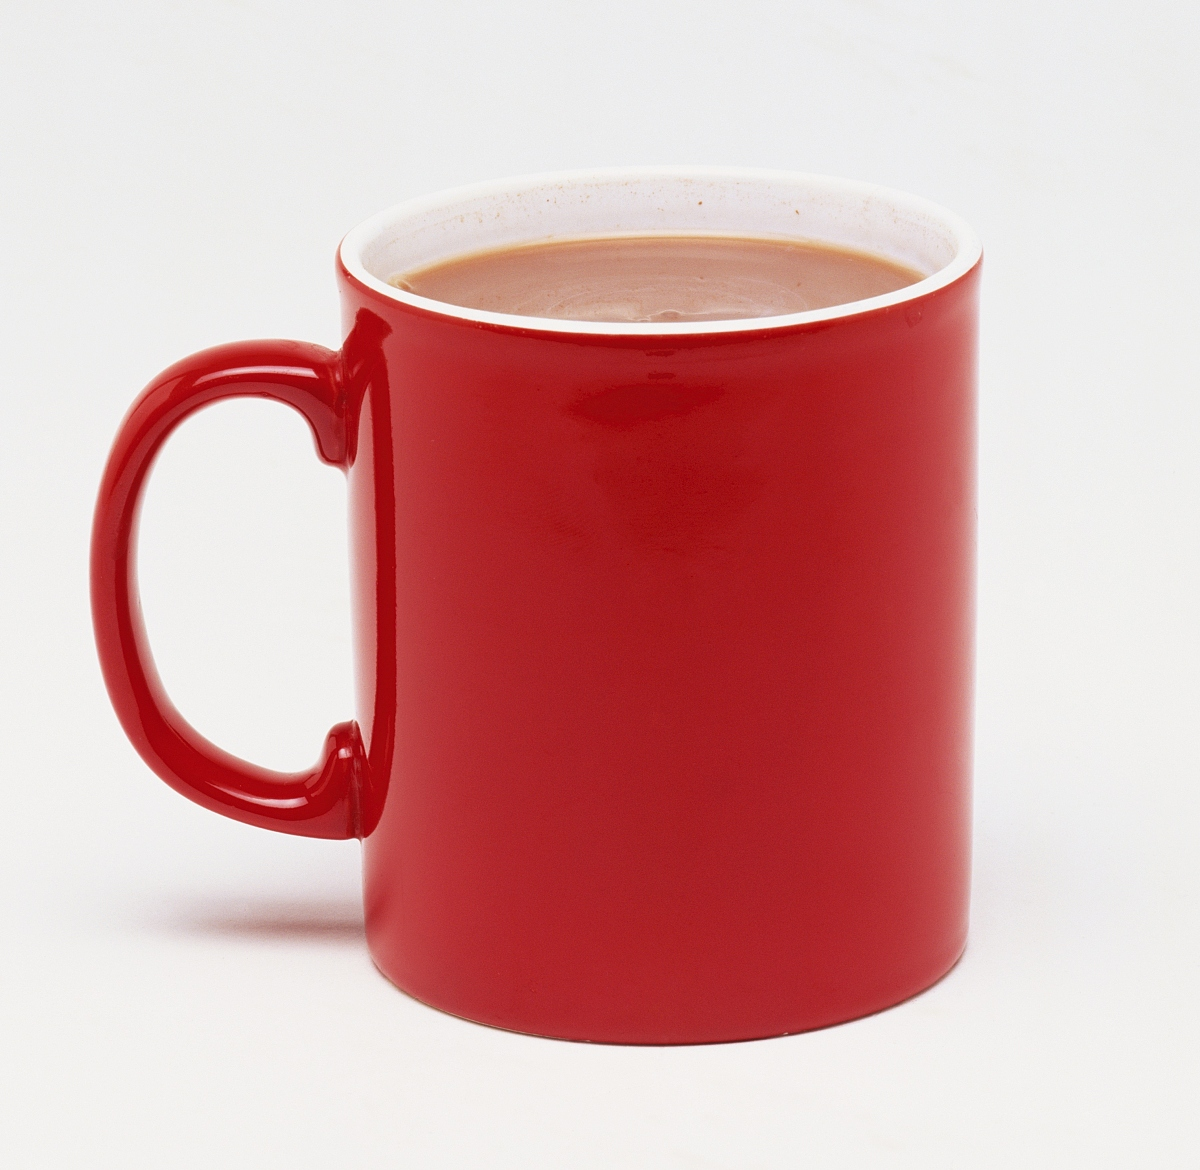cup: (81, 159, 988, 1050)
